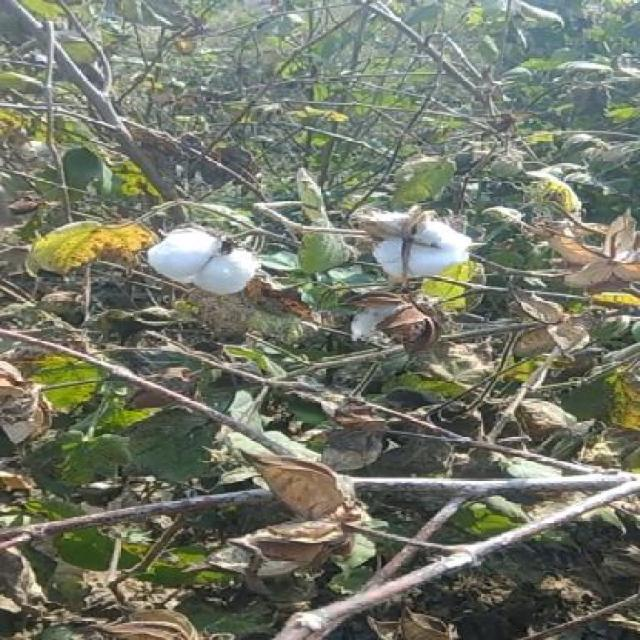cotton_ready: (127, 222, 299, 315), (346, 211, 503, 272)
